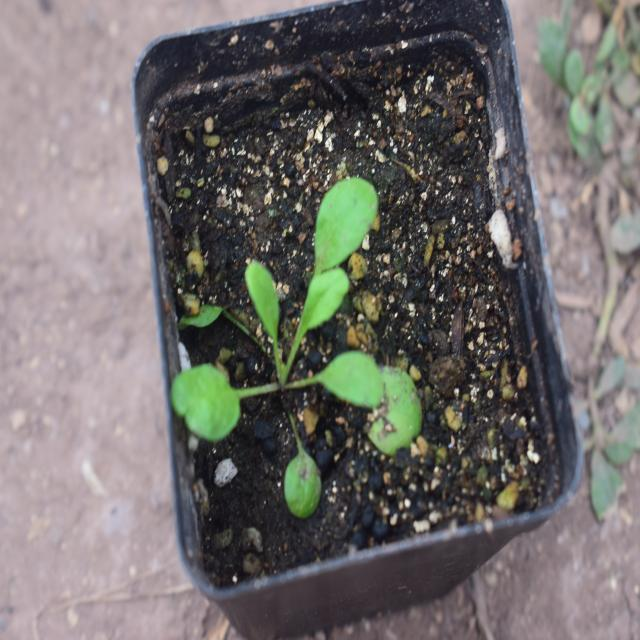Shepherd_Purse: (188, 172, 419, 480)
